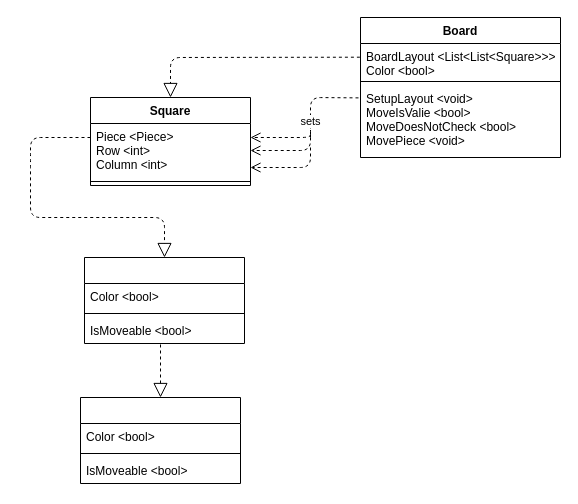
Image size: 578x504. Some labels were removed from this diagram. Here are the shapes that lost their labels. From the top down, the box of each, then its label:
(84, 256, 244, 344): Piece
(80, 396, 240, 484): King
